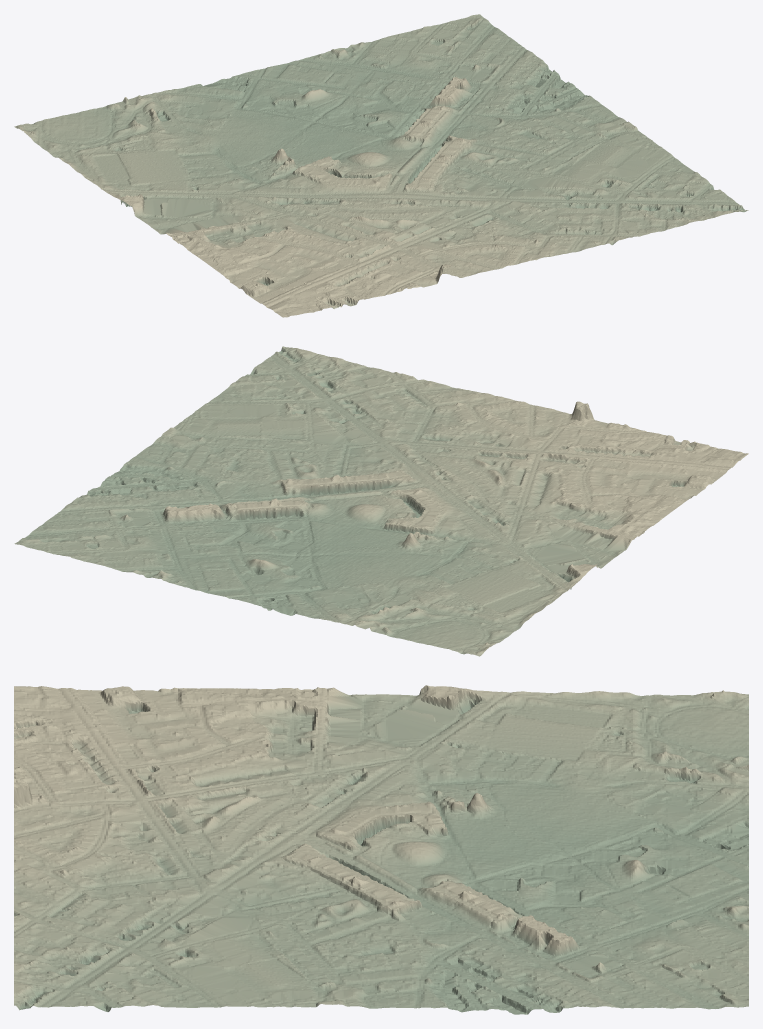
Rendered from kennington_common_current_terrain.glb.
3 renders of one model, top to bottom at view 1: azimuth 30°, elevation 25°; view 2: azimuth 150°, elevation 25°; view 3: azimuth 270°, elevation 25°, orthographic. The views are drawn at different scales.
Parts seen in each view (by area): view 1: geometry_0; view 2: geometry_0; view 3: geometry_0.
Part boxes in pixels (x1,y1,x2,y2): geometry_0: (14,14,748,317); geometry_0: (14,346,748,656); geometry_0: (14,685,748,1014).
Bounding box in the file's own units: 7.98 × 0.5109 × 7.98.
